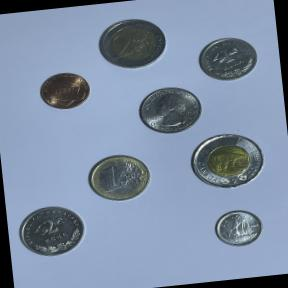1 Euro: (83, 149, 158, 209)
2 Euro: (93, 14, 172, 78)
Canda-10cent-: (209, 204, 269, 253)
Canda-2Dollar-: (186, 128, 270, 197)
Croatia-2Kune-: (14, 201, 90, 262)
US-1cent-: (35, 68, 96, 115)
US-25cent-: (132, 81, 206, 140)
